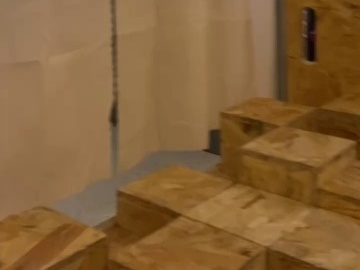curtain: (0, 0, 288, 163)
